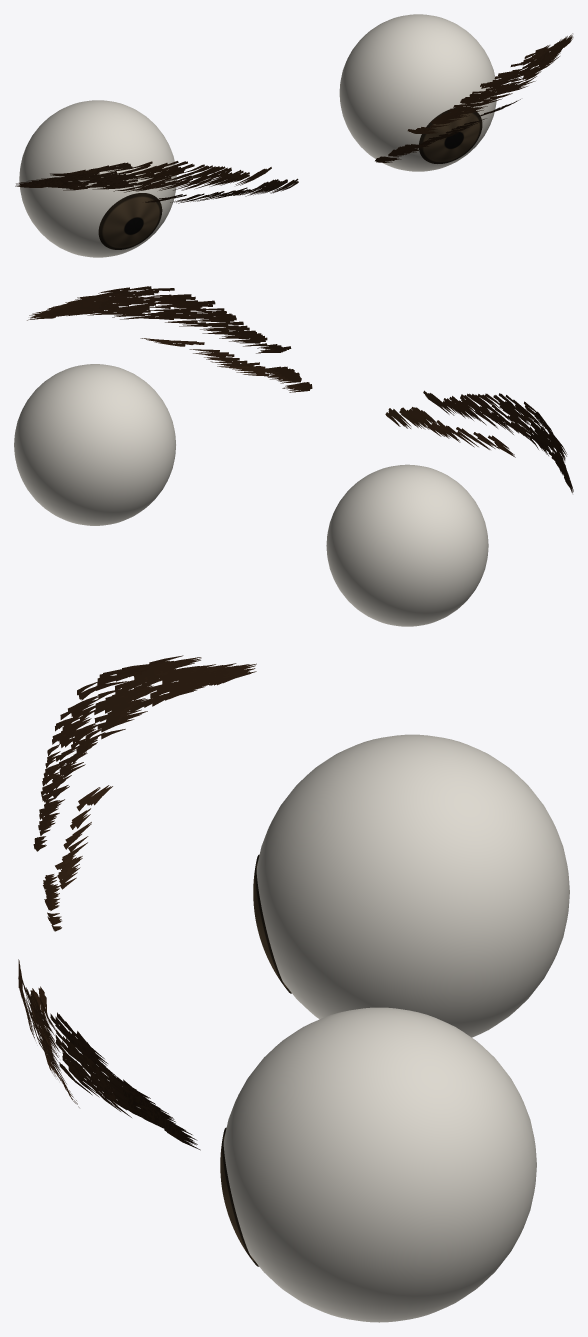
File: hero-eyes-reference.glb
The picture shows the model from 3 angles, top to bottom: view 1: azimuth 30°, elevation 25°; view 2: azimuth 150°, elevation 25°; view 3: azimuth 270°, elevation 25°; orthographic projection. The views are drawn at different scales.
Parts seen in each view (by area): view 1: Reference sclera l, Reference sclera r, Short brow fibers r, Short brow fibers l, Reference iris r, Reference iris l; view 2: Reference sclera r, Reference sclera l, Short brow fibers l, Short brow fibers r; view 3: Reference sclera l, Reference sclera r, Short brow fibers r, Short brow fibers l, Reference iris l, Reference iris r.
Boxes of the visible parts, left/top/right/bottom form: Reference sclera l: left=339, top=14, right=496, bottom=171; Reference sclera r: left=19, top=100, right=176, bottom=257; Short brow fibers r: left=15, top=161, right=298, bottom=203; Short brow fibers l: left=375, top=33, right=573, bottom=162; Reference iris r: left=98, top=193, right=162, bottom=249; Reference iris l: left=419, top=107, right=482, bottom=163; Reference sclera r: left=326, top=464, right=488, bottom=626; Reference sclera l: left=14, top=364, right=175, bottom=525; Short brow fibers l: left=27, top=286, right=312, bottom=392; Short brow fibers r: left=385, top=390, right=573, bottom=493; Reference sclera l: left=223, top=1007, right=536, bottom=1322; Reference sclera r: left=256, top=734, right=569, bottom=1037; Short brow fibers r: left=33, top=655, right=256, bottom=931; Short brow fibers l: left=18, top=959, right=200, bottom=1150; Reference iris l: left=220, top=1127, right=258, bottom=1266; Reference iris r: left=253, top=854, right=291, bottom=993.
Size of the model in its own units: 0.1075 by 0.0332 by 0.0471.
